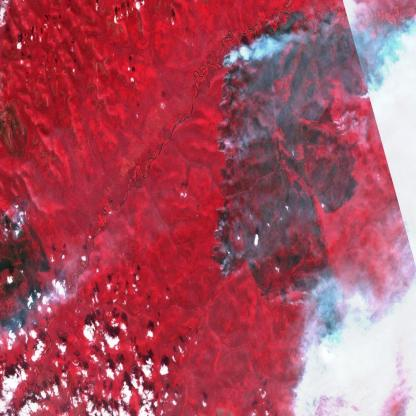fire: (212, 30, 261, 171), (206, 198, 259, 288), (332, 80, 371, 144), (264, 285, 321, 318)
